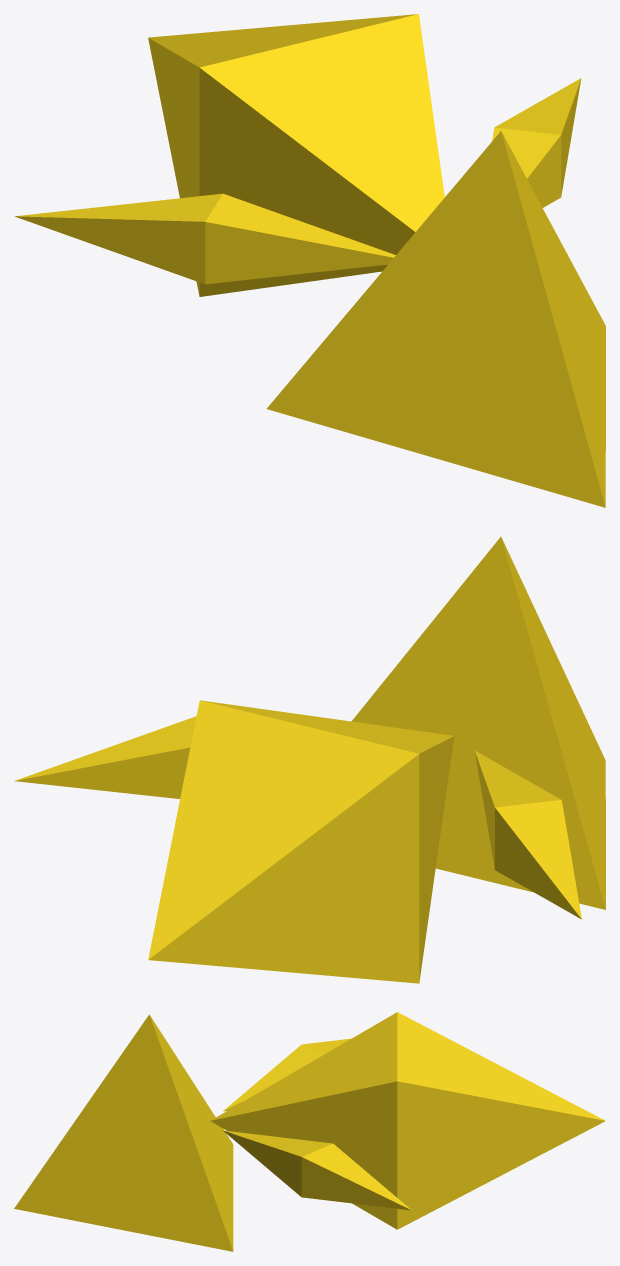
File: tinker.obj
3 renders of one model, top to bottom at view 1: azimuth 30°, elevation 25°; view 2: azimuth 150°, elevation 25°; view 3: azimuth 270°, elevation 25°, orthographic. The views are drawn at different scales.
Parts seen in each view (by area): view 1: group_0_16768282; view 2: group_0_16768282; view 3: group_0_16768282.
Part boxes in pixels (x1,y1,x2,y2): group_0_16768282: [14, 14, 605, 507]; group_0_16768282: [14, 537, 605, 983]; group_0_16768282: [14, 1012, 605, 1251].
Bounding box in the file's own units: 28.46 × 14.41 × 39.73.
